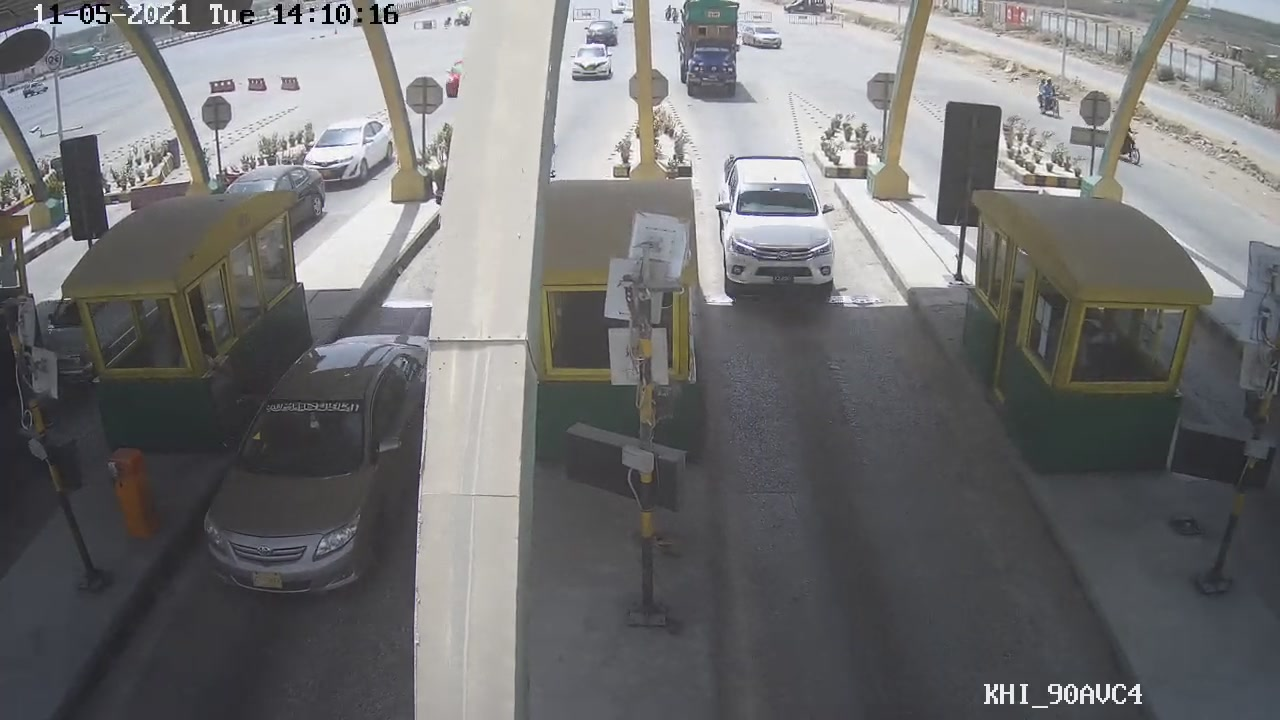F1: (708, 145, 842, 304)
